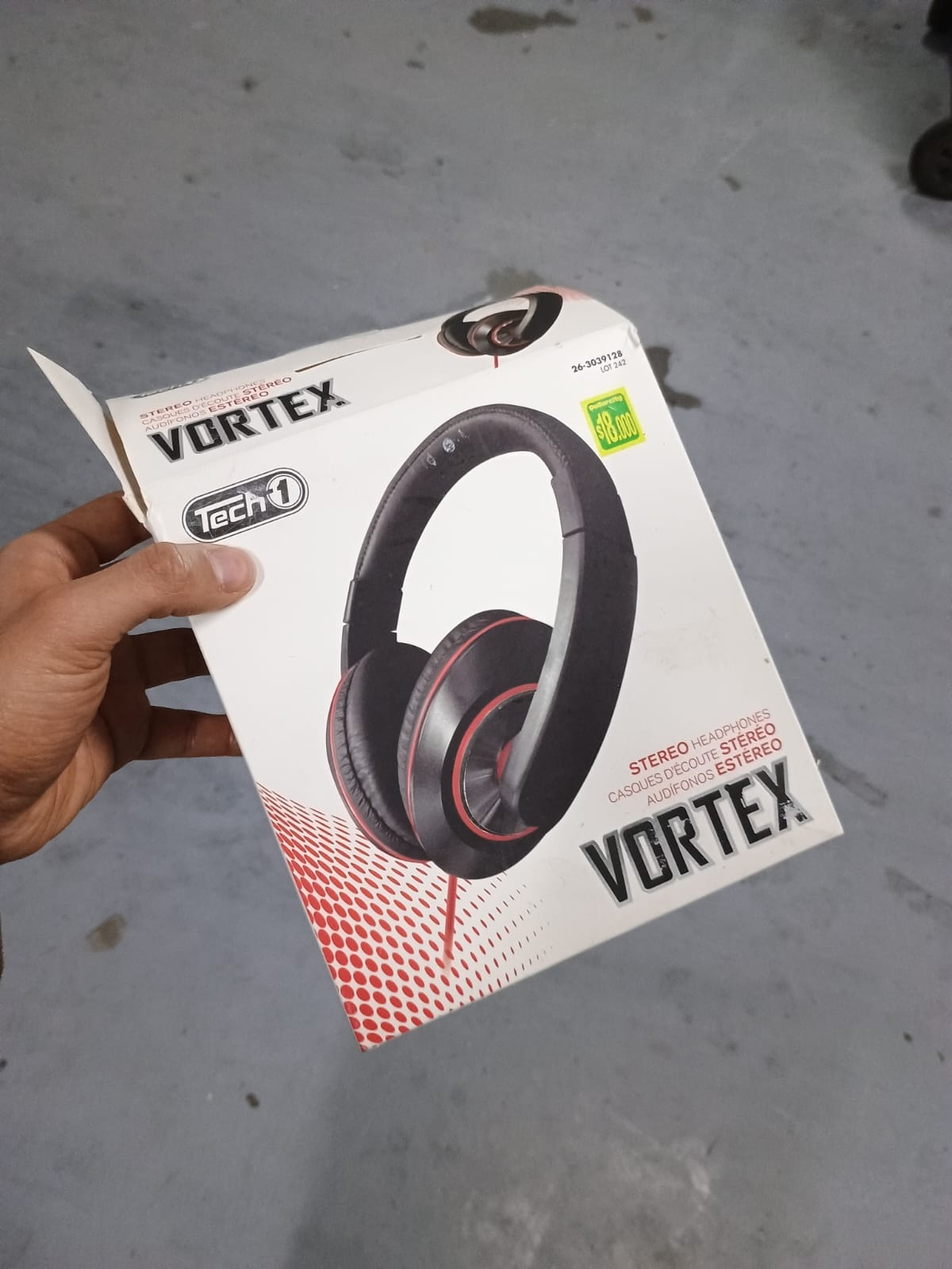Carton: (110, 283, 846, 1055)
